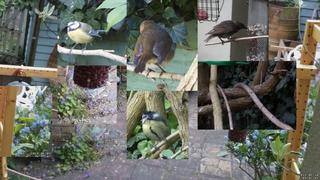blue tit: (65, 20, 107, 54), (140, 111, 170, 151)
robin: (132, 20, 178, 79)
starling: (204, 20, 249, 45)
